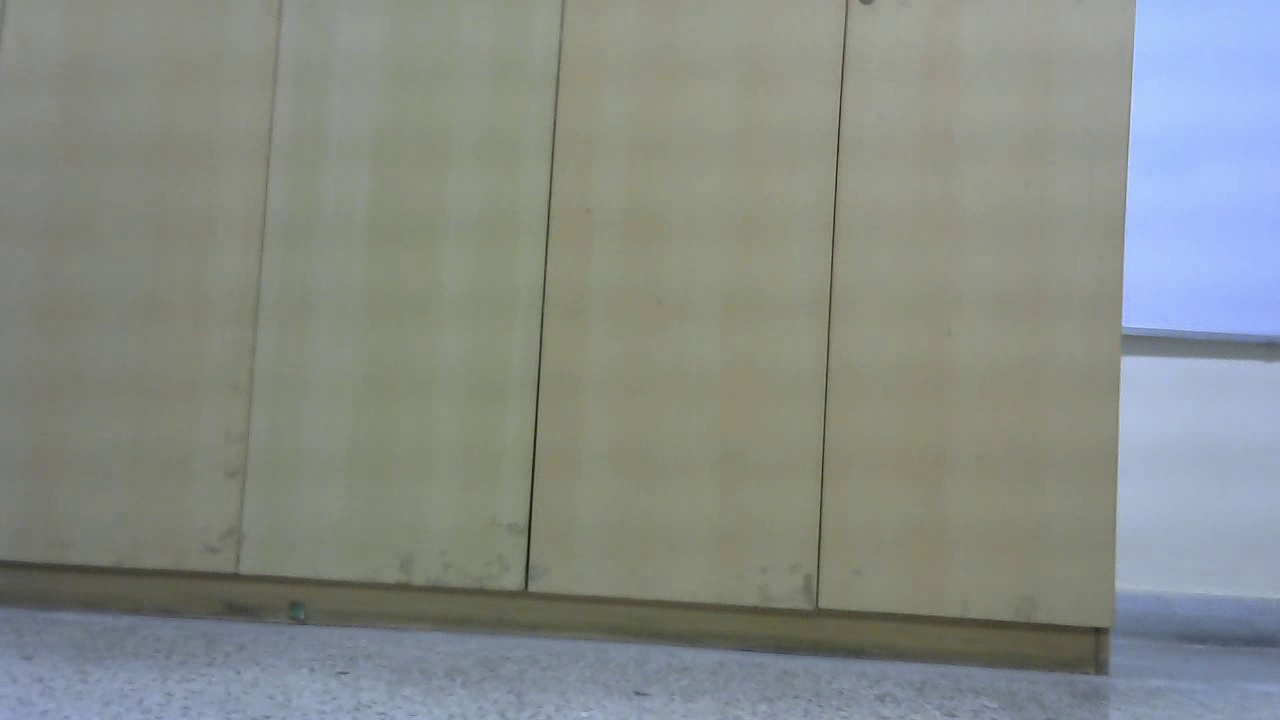chair: (1, 42, 271, 567)
